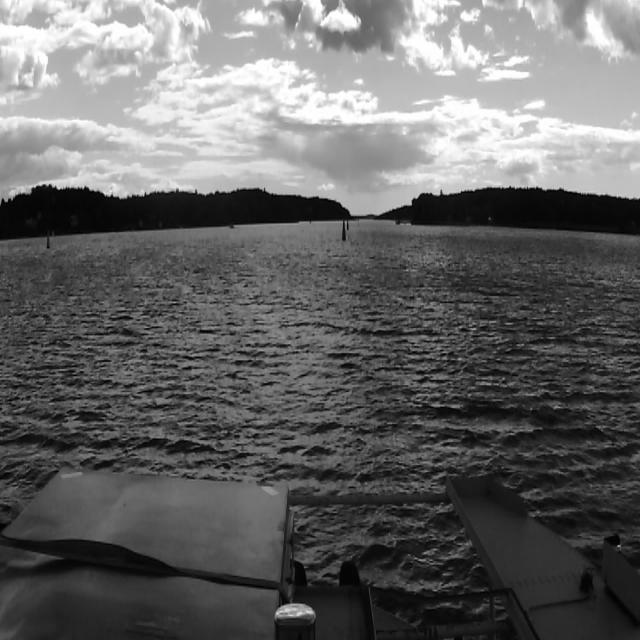buoy: (342, 220, 346, 242)
ship: (228, 220, 234, 230)
